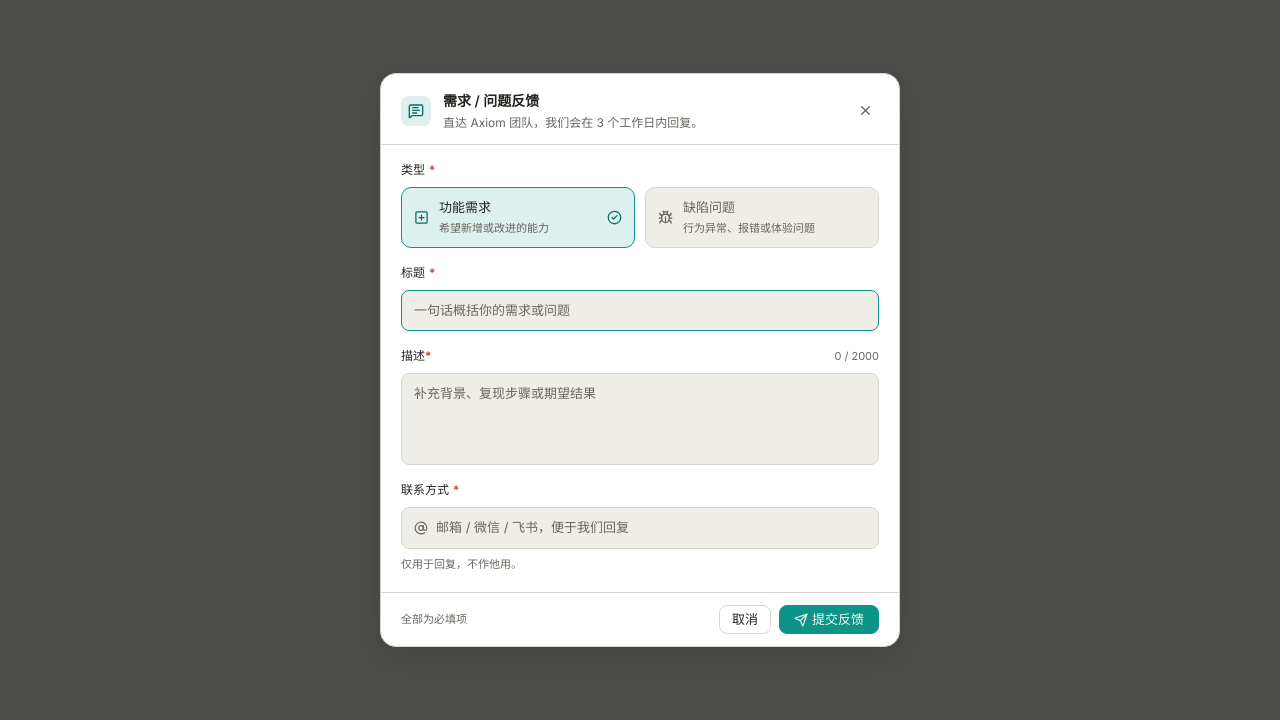
Scenario: FeedbackDialog (RTL) › 类型卡可再点一次取消选中，出现「请选择反馈类型」错误
Click the button "功能需求 希望新增或改进的能力" at (518, 217), box [401, 186, 635, 248]
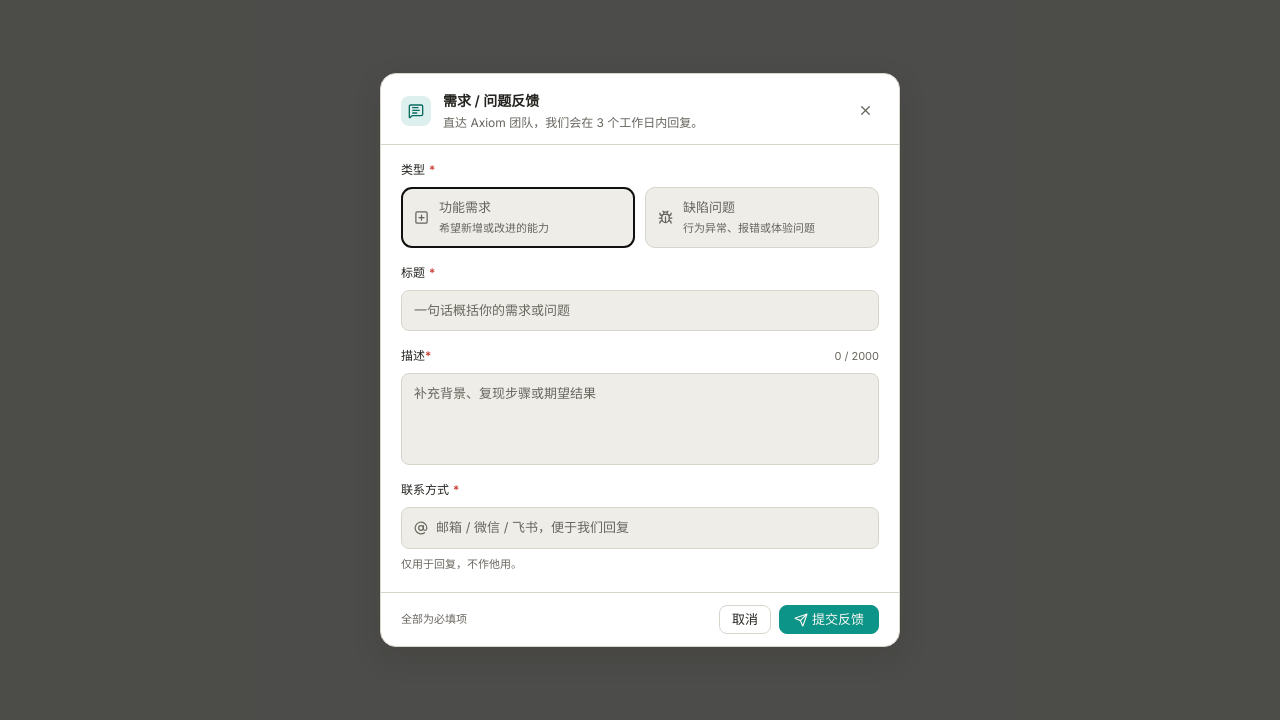
Expected: the button "功能需求 希望新增或改进的能力" is not pressed, [401, 186, 635, 248]
Click the button "提交反馈" at (829, 620), box [779, 605, 879, 634]
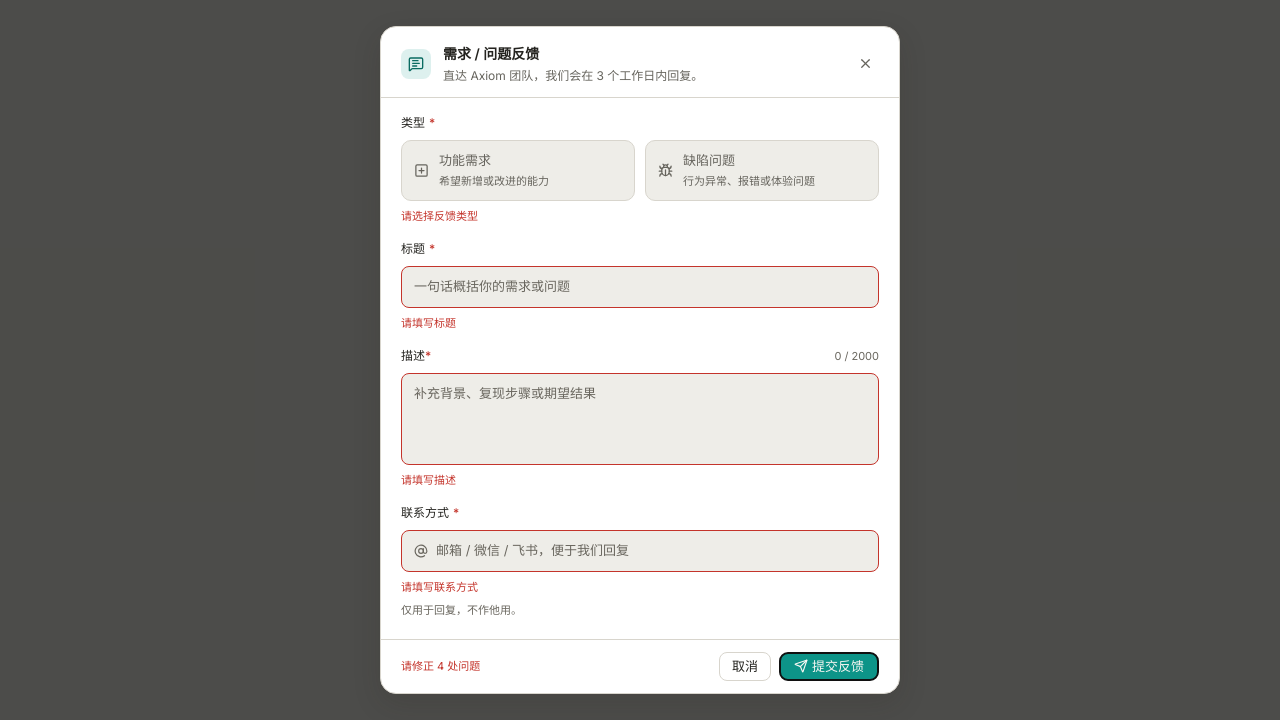
Expected: the text "请选择反馈类型" is shown, [401, 209, 478, 223]
Expected: the text "请修正 4 处问题" is shown, [401, 658, 480, 675]
